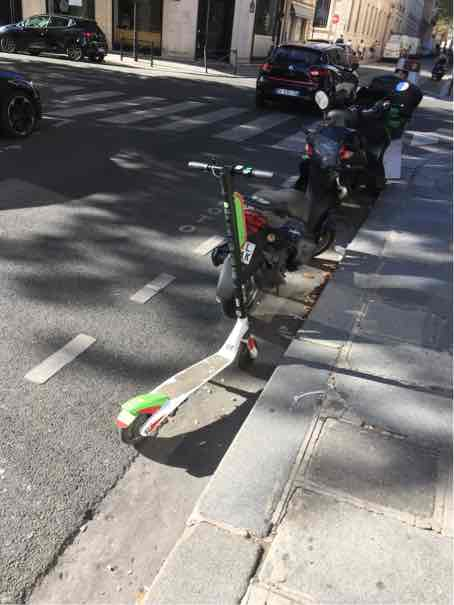scooter: (98, 146, 292, 461)
